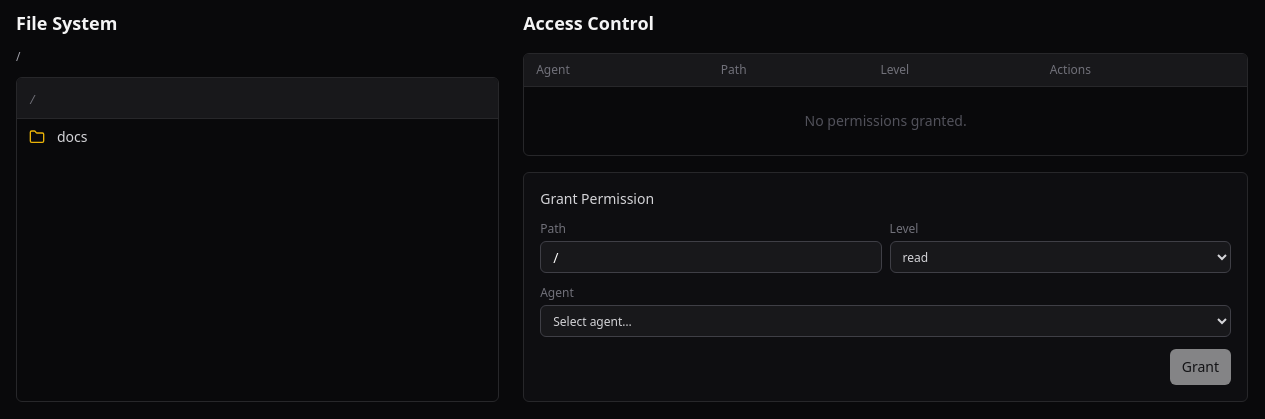
Test: FSBrowser navigation › clicking a directory entry navigates into it (updates currentPath)
Click the text "docs": (72, 136) x1=57 y1=127 x2=88 y2=146
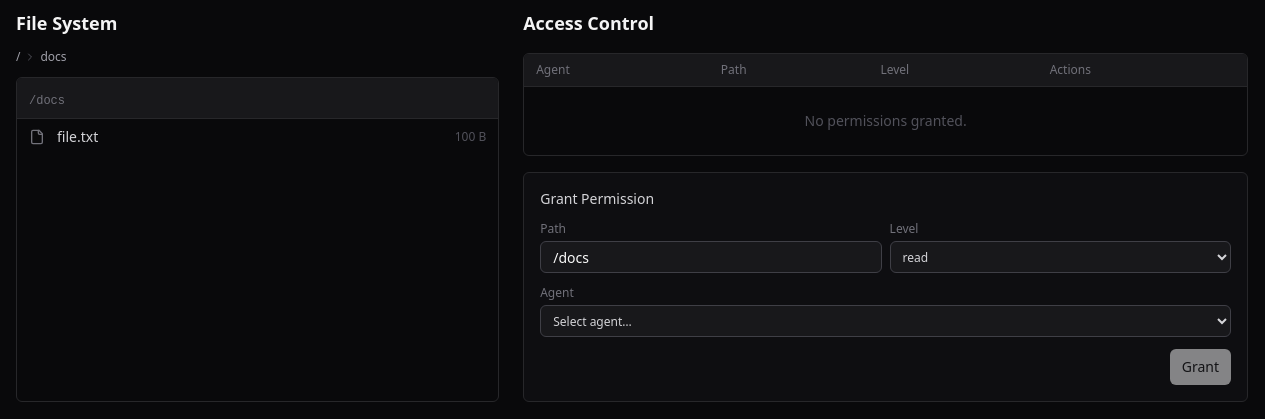
Expected: the text "file.txt" is shown, x1=57 y1=127 x2=98 y2=146
